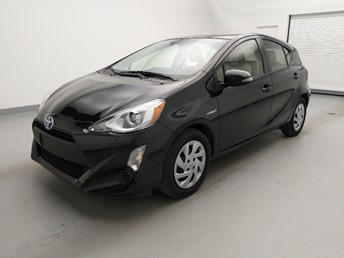Toyota Prius: (30, 30, 312, 201)
